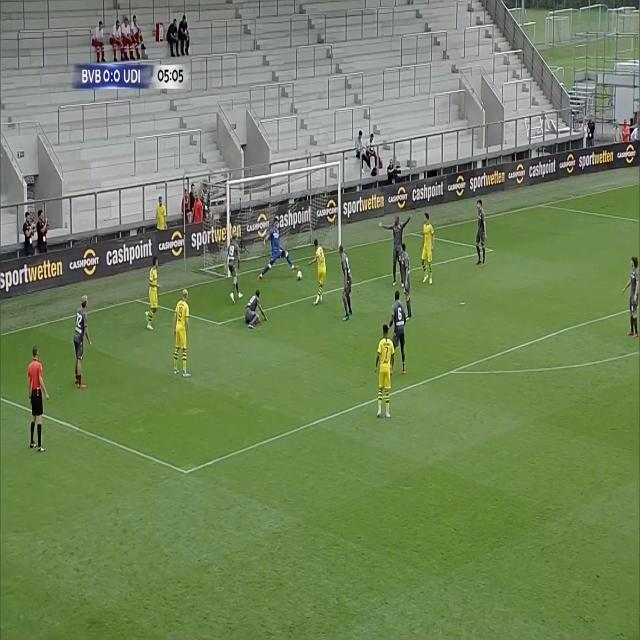ball: (295, 267, 304, 283)
goalkeeper: (255, 215, 296, 276)
player: (69, 288, 97, 395), (168, 281, 196, 385), (379, 210, 413, 289), (372, 321, 396, 428), (387, 287, 409, 379), (334, 244, 358, 324), (141, 256, 162, 332), (396, 238, 415, 318), (416, 207, 434, 288), (241, 286, 270, 333), (226, 233, 245, 302), (626, 254, 639, 339), (312, 238, 328, 307), (473, 198, 489, 266)
referee: (21, 344, 53, 456)
